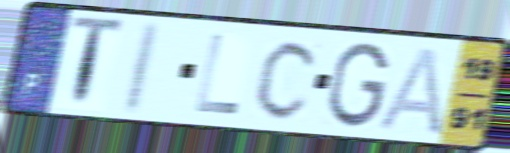A: (374, 44, 445, 138)
C: (251, 36, 322, 123)
G: (325, 40, 392, 130)
I: (117, 18, 165, 117)
L: (192, 31, 241, 118)
T: (68, 14, 127, 114)
